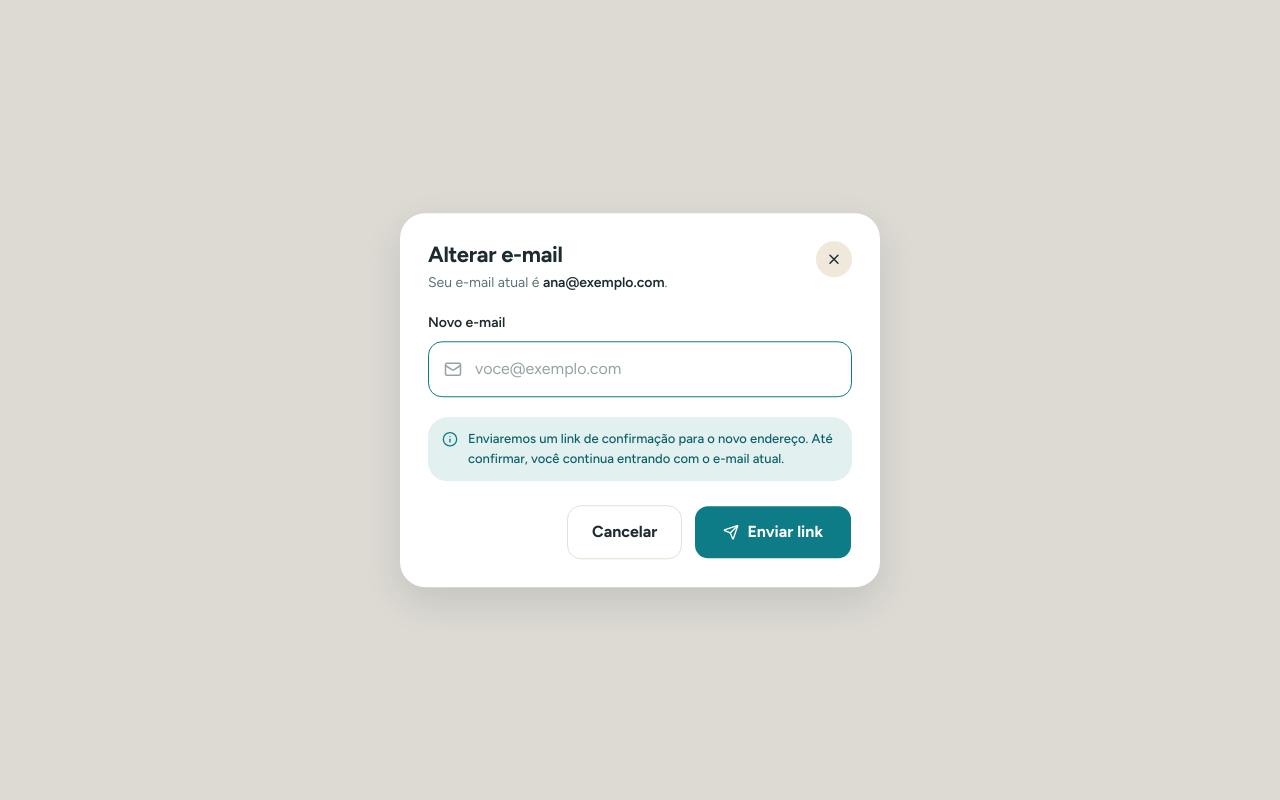
Test case: ChangeEmailDialog › validates abc
Type "abc" into the field labelled "Novo e-mail" at {"x": 640, "y": 369}, box [428,341,852,397]
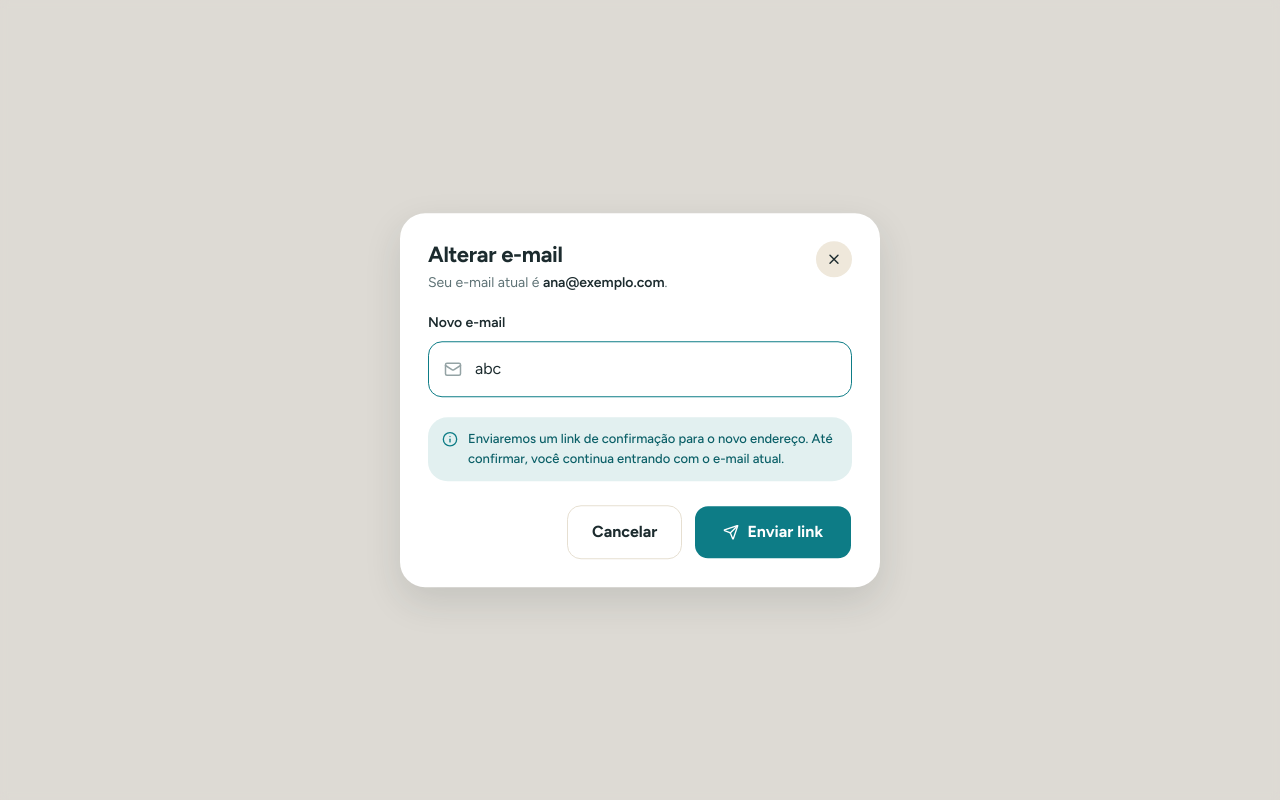
Click the button "Enviar link" at {"x": 773, "y": 532}, box [694,505,852,559]
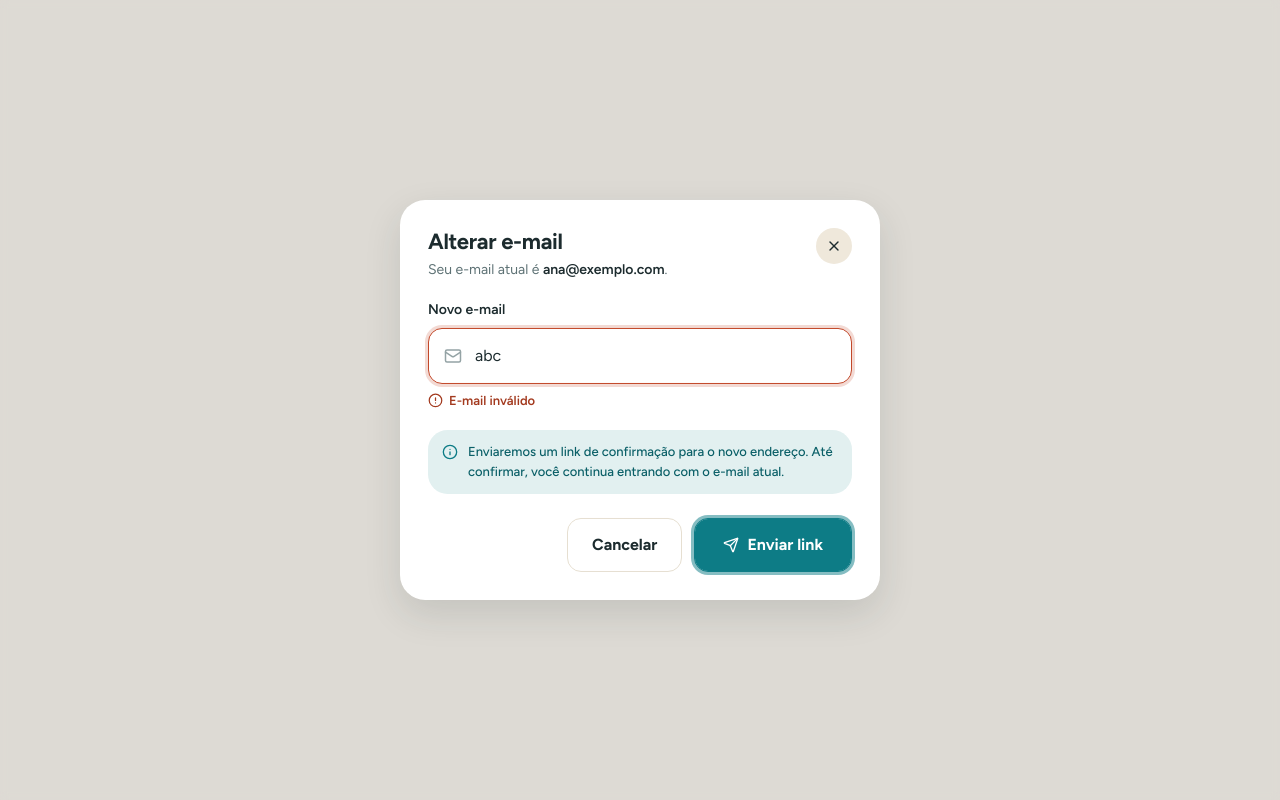
Check: the text "E-mail inválido" is shown, box [428,392,535,408]
